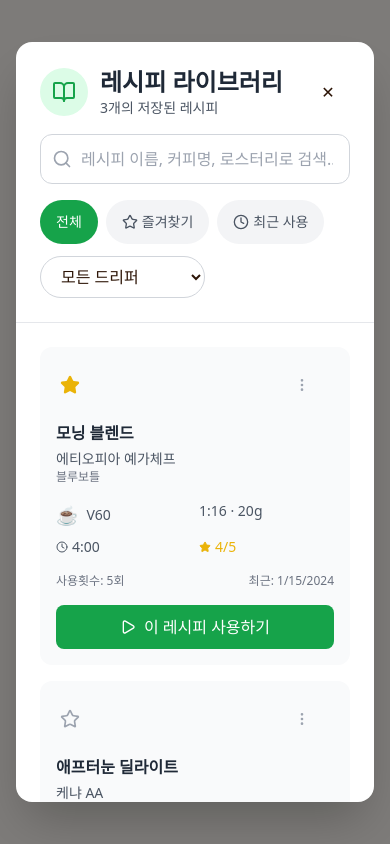
it: RecipeLibrary › Filter Functionality › combines multiple filters correctly
The image size is (390, 844).
Note: Apply favorite filter and dripper filter
Click the button "즐겨찾기": (158, 222) [106,200,209,244]
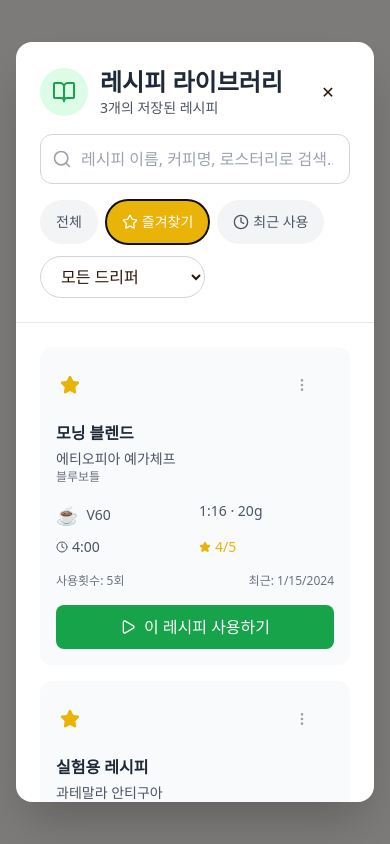
Select "☕ V60" in the dropdown showing "모든 드리퍼": (122, 277) [40,256,205,298]
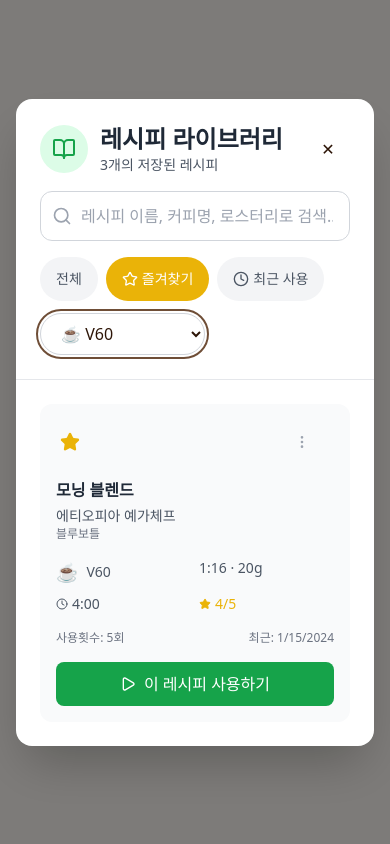
Expected: the heading "모닝 블렌드" is shown, [56,478,134,500]
Expected: the heading "실험용 레시피" is gone
